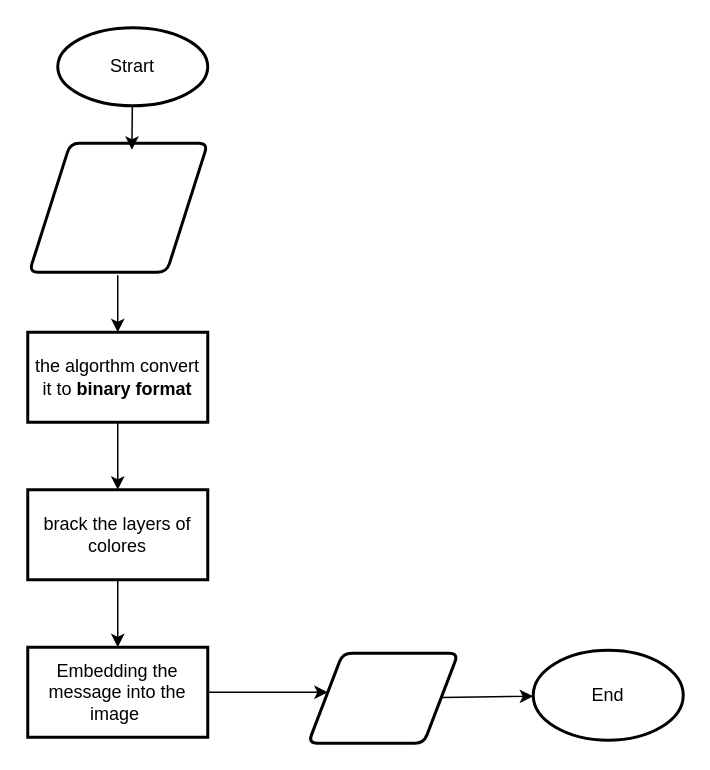
This 710x770 diagram has some shape labels left out. The centre of each missing label's shape, as x and y in pixels:
"cover media & the message" belongs at [117,207].
"Stego_image" belongs at [382,697].
